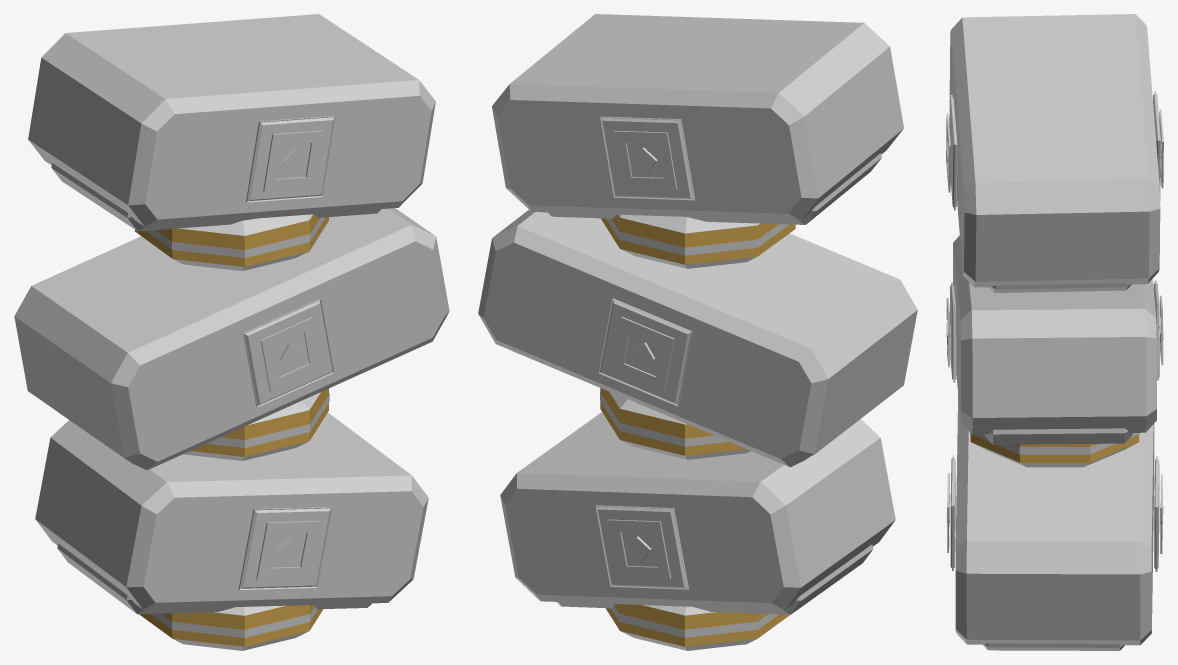
The model's file is wand_motion_31.obj.
The picture shows the model from 3 angles, left to right: view 1: azimuth 30°, elevation 25°; view 2: azimuth 150°, elevation 25°; view 3: azimuth 270°, elevation 25°; orthographic projection. The views are drawn at different scales.
Parts seen in each view (by area): view 1: chamfered_seal_tablet_2, chamfered_seal_tablet_1, chamfered_seal_tablet_0, tablet_spacer_2, tablet_spacer_0, inset_rune_socket_1, inset_rune_socket_3, inset_rune_socket_5, tablet_spacer_1, seal_shadow_base_2, seal_shadow_base_0, tablet_spacer_dark_seam_2 (+2 smaller); view 2: chamfered_seal_tablet_2, chamfered_seal_tablet_1, chamfered_seal_tablet_0, tablet_spacer_2, tablet_spacer_0, inset_rune_socket_4, inset_rune_socket_2, inset_rune_socket_0, tablet_spacer_1, seal_shadow_base_0, seal_shadow_base_2, tablet_spacer_dark_seam_2 (+2 smaller); view 3: chamfered_seal_tablet_2, chamfered_seal_tablet_0, chamfered_seal_tablet_1, seal_shadow_base_1, tablet_spacer_1, seal_shadow_base_2, seal_shadow_base_0, tablet_spacer_dark_seam_1, inset_rune_socket_5, inset_rune_socket_1, inset_rune_socket_0, inset_rune_socket_3 (+2 smaller).
Boxes of the visible parts, box(x1,y1,x2,y2) form: chamfered_seal_tablet_2: box(28, 14, 435, 226); chamfered_seal_tablet_1: box(14, 208, 449, 469); chamfered_seal_tablet_0: box(35, 412, 428, 609); tablet_spacer_2: box(135, 214, 328, 270); tablet_spacer_0: box(139, 605, 323, 650); inset_rune_socket_1: box(238, 507, 332, 589); inset_rune_socket_3: box(243, 299, 333, 407); inset_rune_socket_5: box(246, 115, 335, 202); tablet_spacer_1: box(183, 388, 328, 460); seal_shadow_base_2: box(51, 163, 381, 231); seal_shadow_base_0: box(57, 543, 371, 614); tablet_spacer_dark_seam_2: box(146, 217, 325, 257); chamfered_seal_tablet_2: box(492, 14, 903, 220); chamfered_seal_tablet_1: box(478, 210, 917, 466); chamfered_seal_tablet_0: box(500, 412, 895, 609); tablet_spacer_2: box(601, 214, 795, 268); tablet_spacer_0: box(605, 604, 789, 650); inset_rune_socket_4: box(600, 116, 695, 200); inset_rune_socket_2: box(598, 298, 692, 406); inset_rune_socket_0: box(595, 505, 688, 589); tablet_spacer_1: box(600, 388, 750, 459); seal_shadow_base_0: box(557, 544, 873, 614); seal_shadow_base_2: box(547, 153, 881, 224); tablet_spacer_dark_seam_2: box(606, 218, 789, 255); chamfered_seal_tablet_2: box(949, 14, 1160, 287); chamfered_seal_tablet_0: box(955, 394, 1154, 645); chamfered_seal_tablet_1: box(953, 235, 1156, 434); seal_shadow_base_1: box(984, 428, 1132, 444); tablet_spacer_1: box(970, 434, 1139, 467); seal_shadow_base_2: box(989, 283, 1131, 292); seal_shadow_base_0: box(983, 643, 1124, 650); tablet_spacer_dark_seam_1: box(970, 432, 1139, 454); inset_rune_socket_5: box(949, 95, 957, 210); inset_rune_socket_1: box(950, 455, 955, 570); inset_rune_socket_0: box(1154, 456, 1159, 571); inset_rune_socket_3: box(950, 282, 956, 382).
Bounding box in the file's own units: 0.1974 × 0.3166 × 0.1146.
